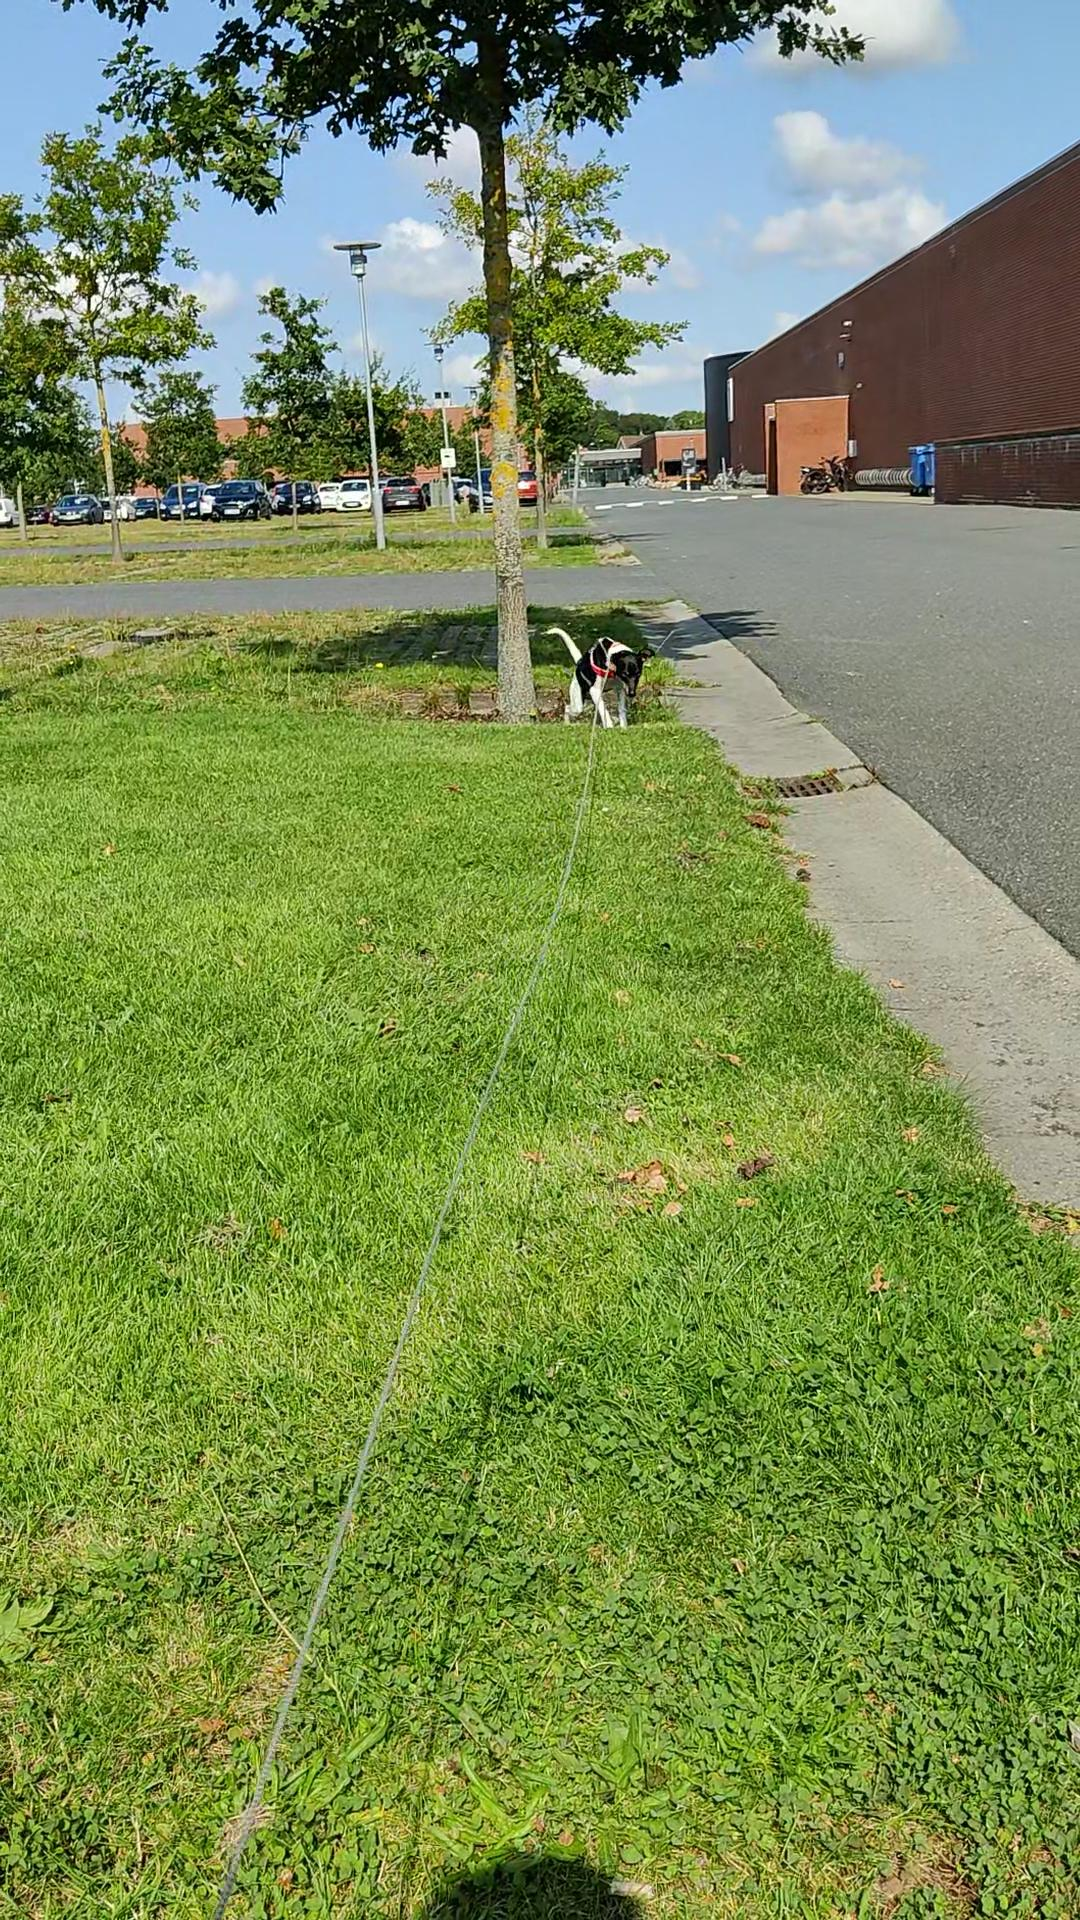Dog: (541, 617, 657, 732)
